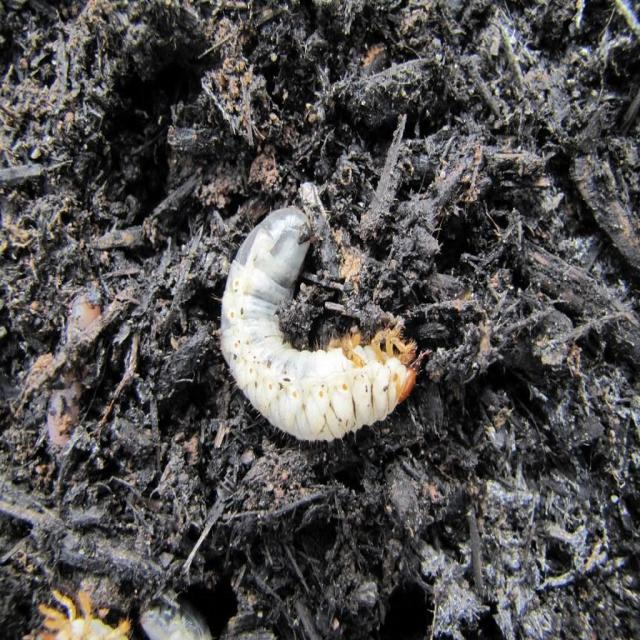Grub-Adult-: (213, 202, 423, 446)
